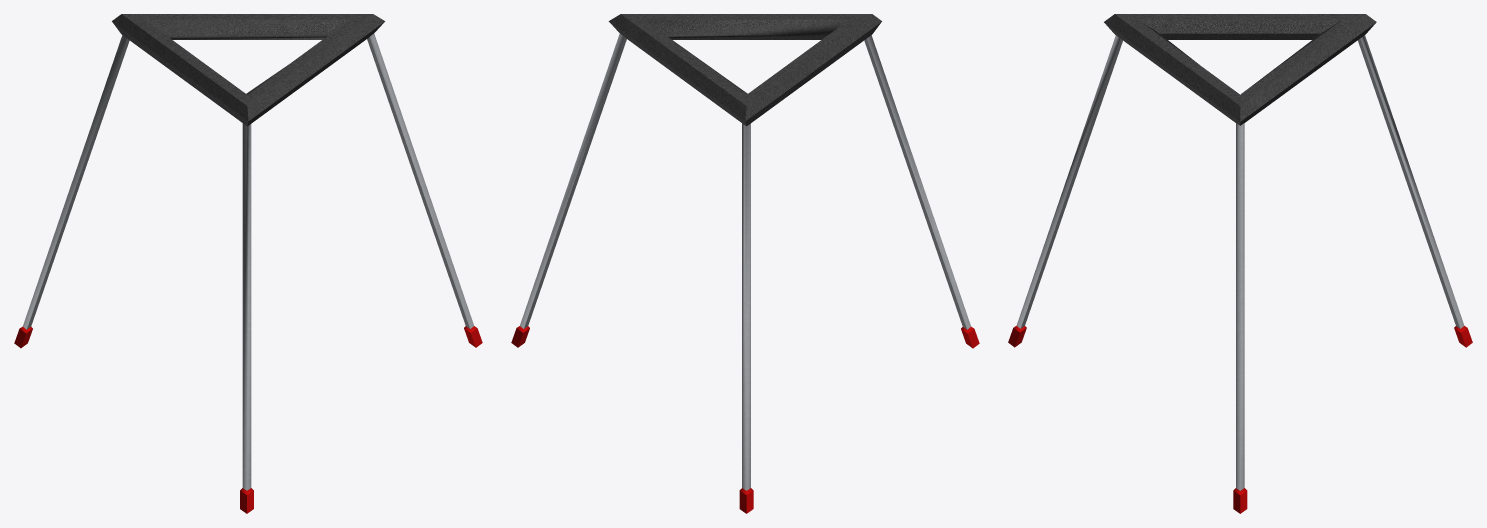
The model's file is Burner Stand.glb.
3 renders of one model, left to right at view 1: azimuth 30°, elevation 25°; view 2: azimuth 150°, elevation 25°; view 3: azimuth 270°, elevation 25°, orthographic.
Visible parts, largest first — view 1: tripod_bunsontexure_0; view 2: tripod_bunsontexure_0; view 3: tripod_bunsontexure_0.
Part boxes in pixels (left/top/right/bottom): tripod_bunsontexure_0: left=14, top=14, right=482, bottom=513; tripod_bunsontexure_0: left=511, top=14, right=979, bottom=513; tripod_bunsontexure_0: left=1008, top=14, right=1472, bottom=513.
Size of the model in its own units: 0.1815 by 0.175 by 0.2078.
3 materials, 3 textured.
